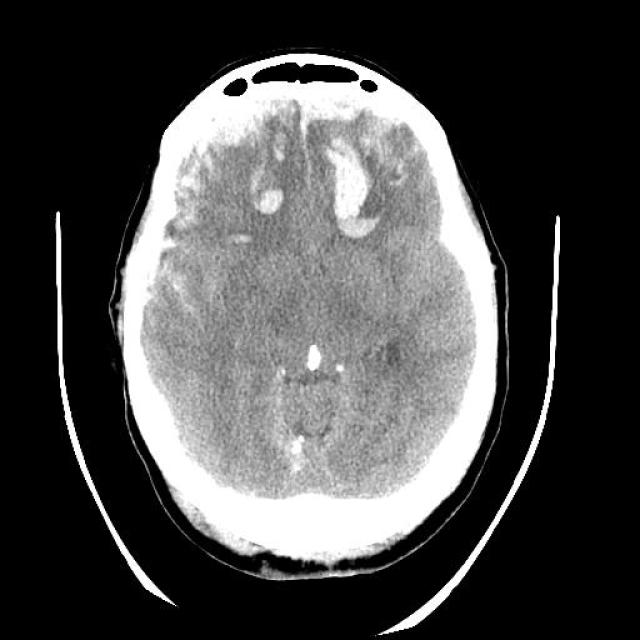Intraparenchymal: (322, 142, 382, 246), (251, 160, 300, 218)
Subarachnoid: (135, 154, 225, 311), (372, 111, 438, 171)
Subdural: (270, 91, 385, 139)
